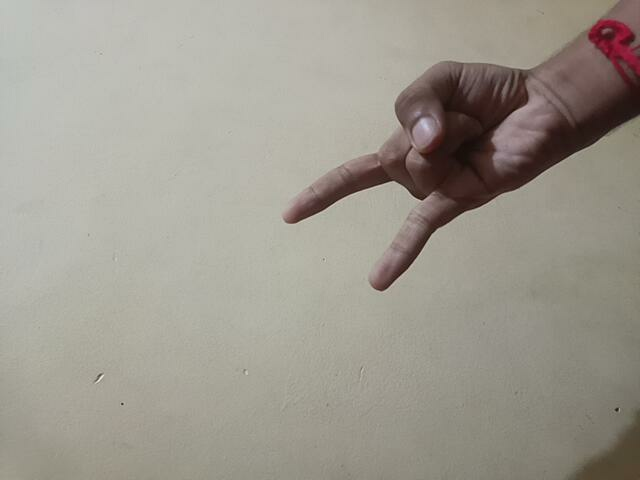Rock: (282, 60, 570, 295)
